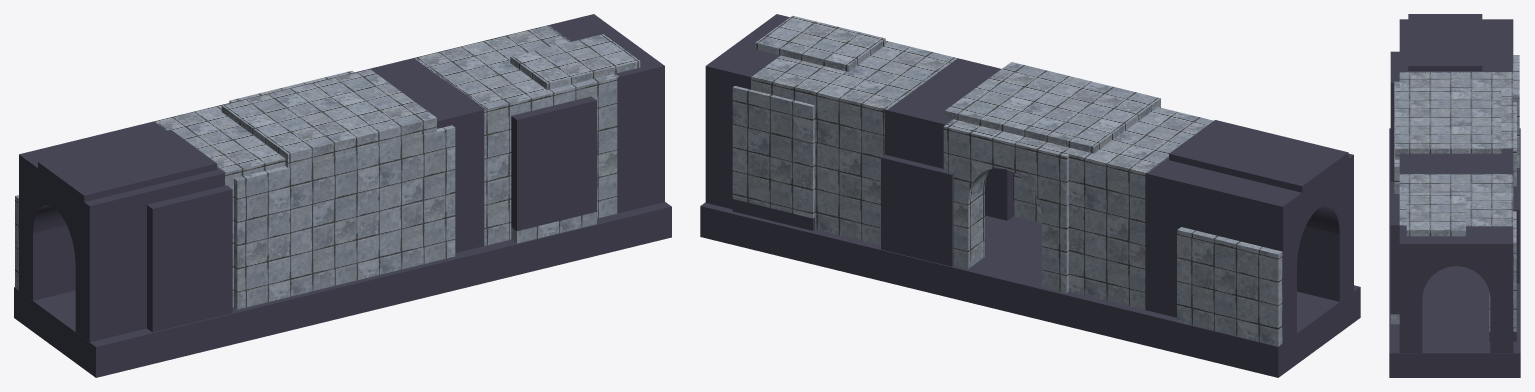
Rendered from THallway.fbx.
The picture shows the model from 3 angles, left to right: view 1: azimuth 30°, elevation 25°; view 2: azimuth 150°, elevation 25°; view 3: azimuth 270°, elevation 25°; orthographic projection. The views are drawn at different scales.
Visible parts, largest first — view 1: block (×7), block_gate% (×5); view 2: block (×8), block_gate% (×6); view 3: block (×10), block_gate% (×6).
Part boxes in pixels (bbox=[...]): block (×7): bbox=[14, 34, 671, 377]; block_gate% (×5): bbox=[19, 14, 664, 342]; block (×8): bbox=[700, 15, 1360, 377]; block_gate% (×6): bbox=[705, 14, 1353, 343]; block (×10): bbox=[1389, 14, 1520, 377]; block_gate% (×6): bbox=[1399, 19, 1516, 352].
Size of the model in its own units: 64.78 by 18.65 by 15.97.
